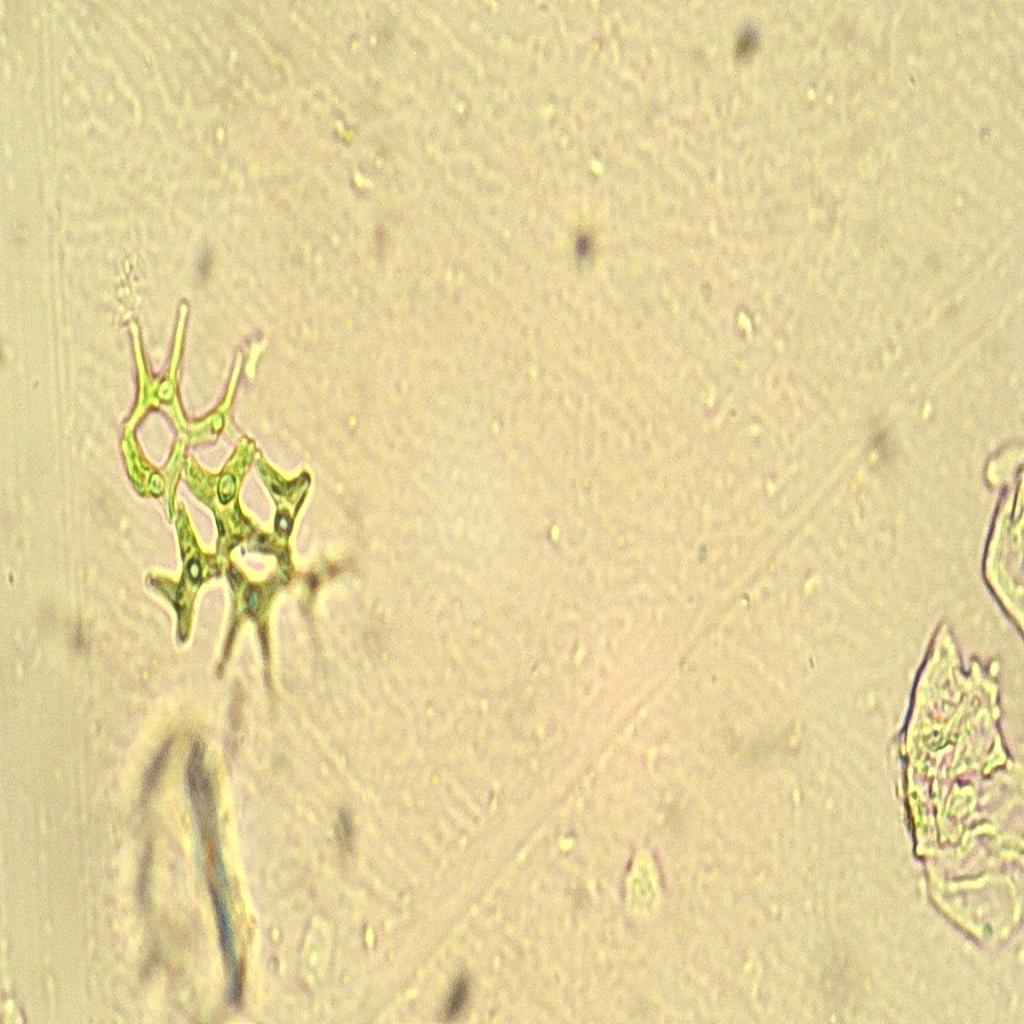Pediastrum_1TH: (100, 271, 369, 741)
